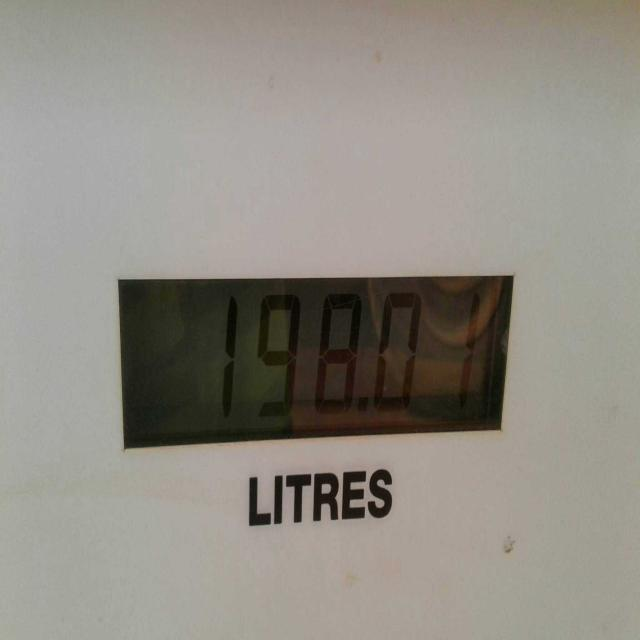.: (354, 382, 378, 429)
0: (368, 287, 429, 426)
1: (440, 289, 488, 428), (205, 287, 251, 430)
8: (314, 285, 364, 426)
9: (250, 284, 309, 432)
